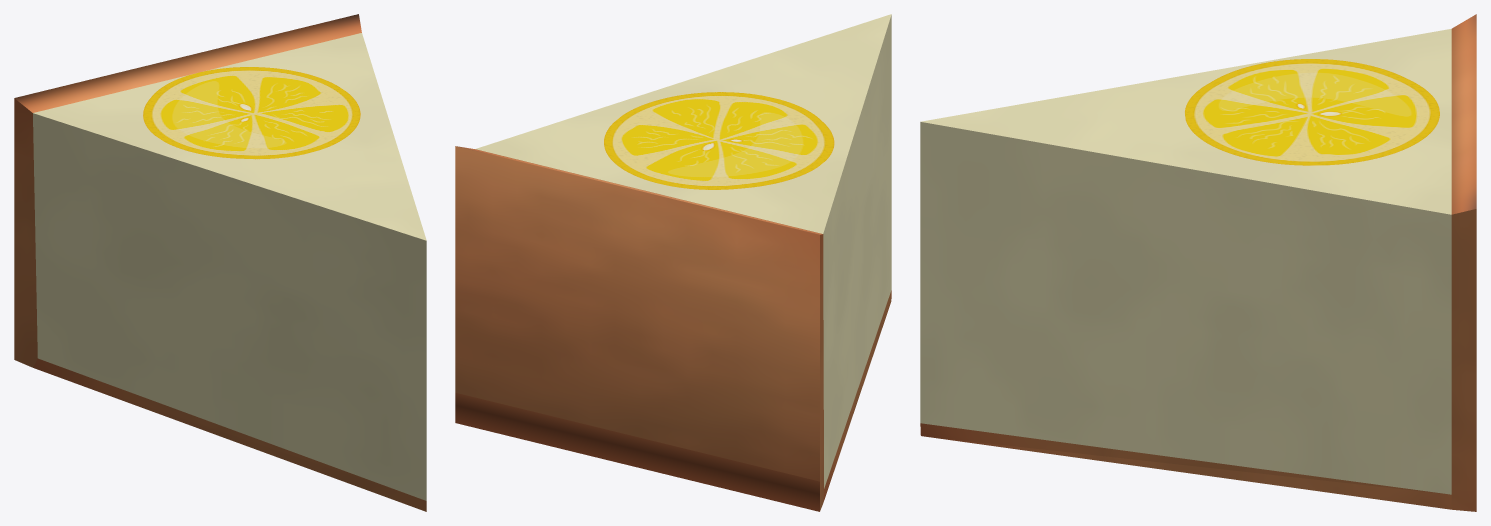
The model's file is Cheesecake_Slice_A.FBX.
3 views of the same model, side by side, from view 1: azimuth 30°, elevation 25°; view 2: azimuth 150°, elevation 25°; view 3: azimuth 270°, elevation 25° (orthographic). The views are drawn at different scales.
Visible parts, largest first — view 1: Cheesecake_Slice; view 2: Cheesecake_Slice; view 3: Cheesecake_Slice.
Boxes of the visible parts, x1,y1,x2,y2 form: Cheesecake_Slice: (14, 14, 426, 511); Cheesecake_Slice: (455, 14, 891, 511); Cheesecake_Slice: (920, 14, 1476, 511).
Size of the model in its own units: 32.61 by 25.35 by 39.37.
